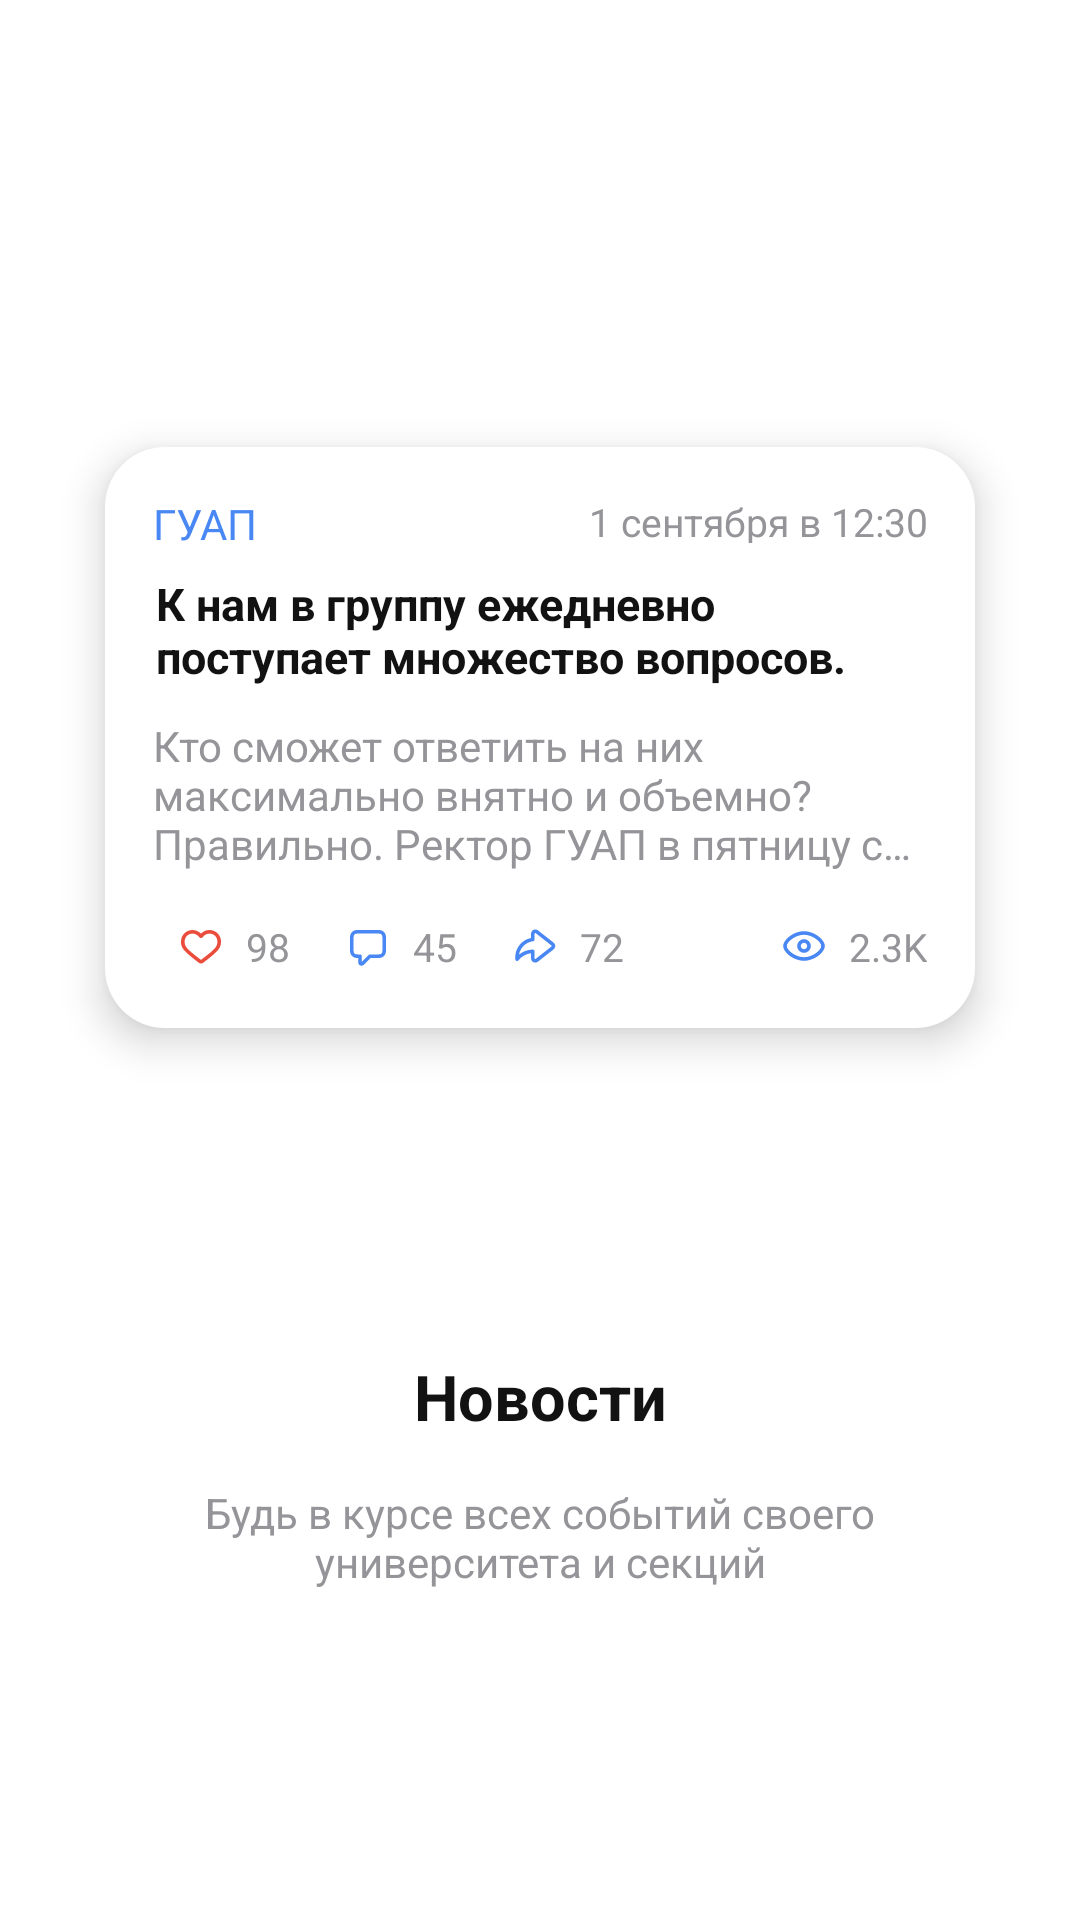

Icon bounding boxes for this 1080px x 1920px phone screenshot, format (x1, y1, x2, y2):
comment: (350, 930, 386, 966)
like: (181, 930, 221, 964)
share: (515, 929, 556, 963)
view: (783, 931, 825, 961)
